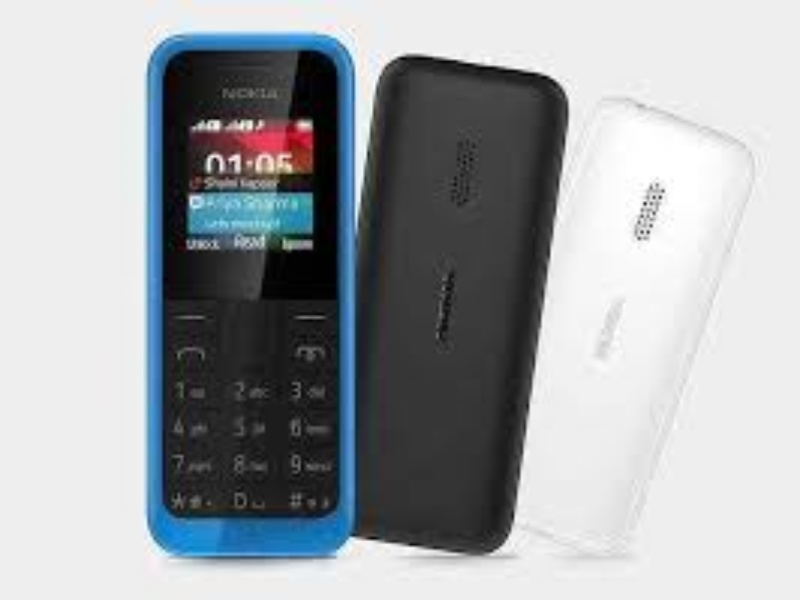mobile: (141, 22, 363, 571)
